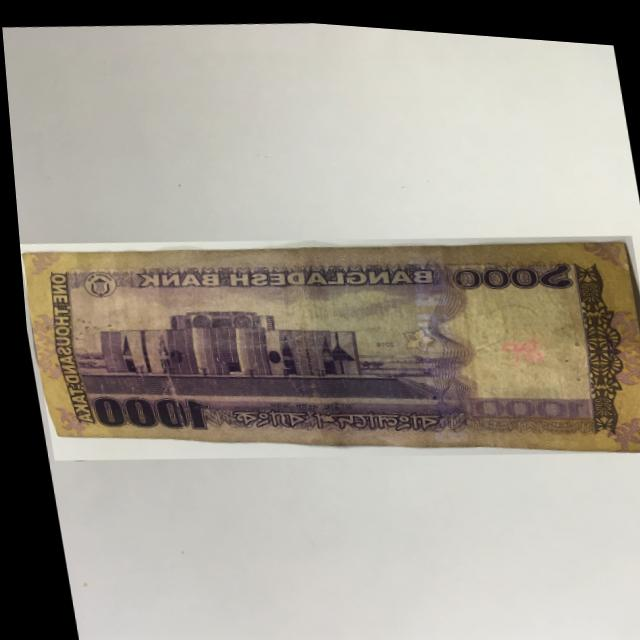Taka: (12, 190, 640, 496)
